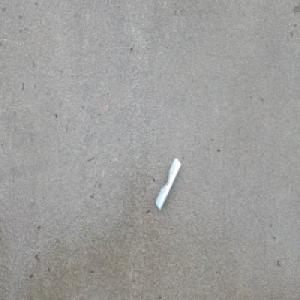ClampPart: (155, 157, 181, 211)
